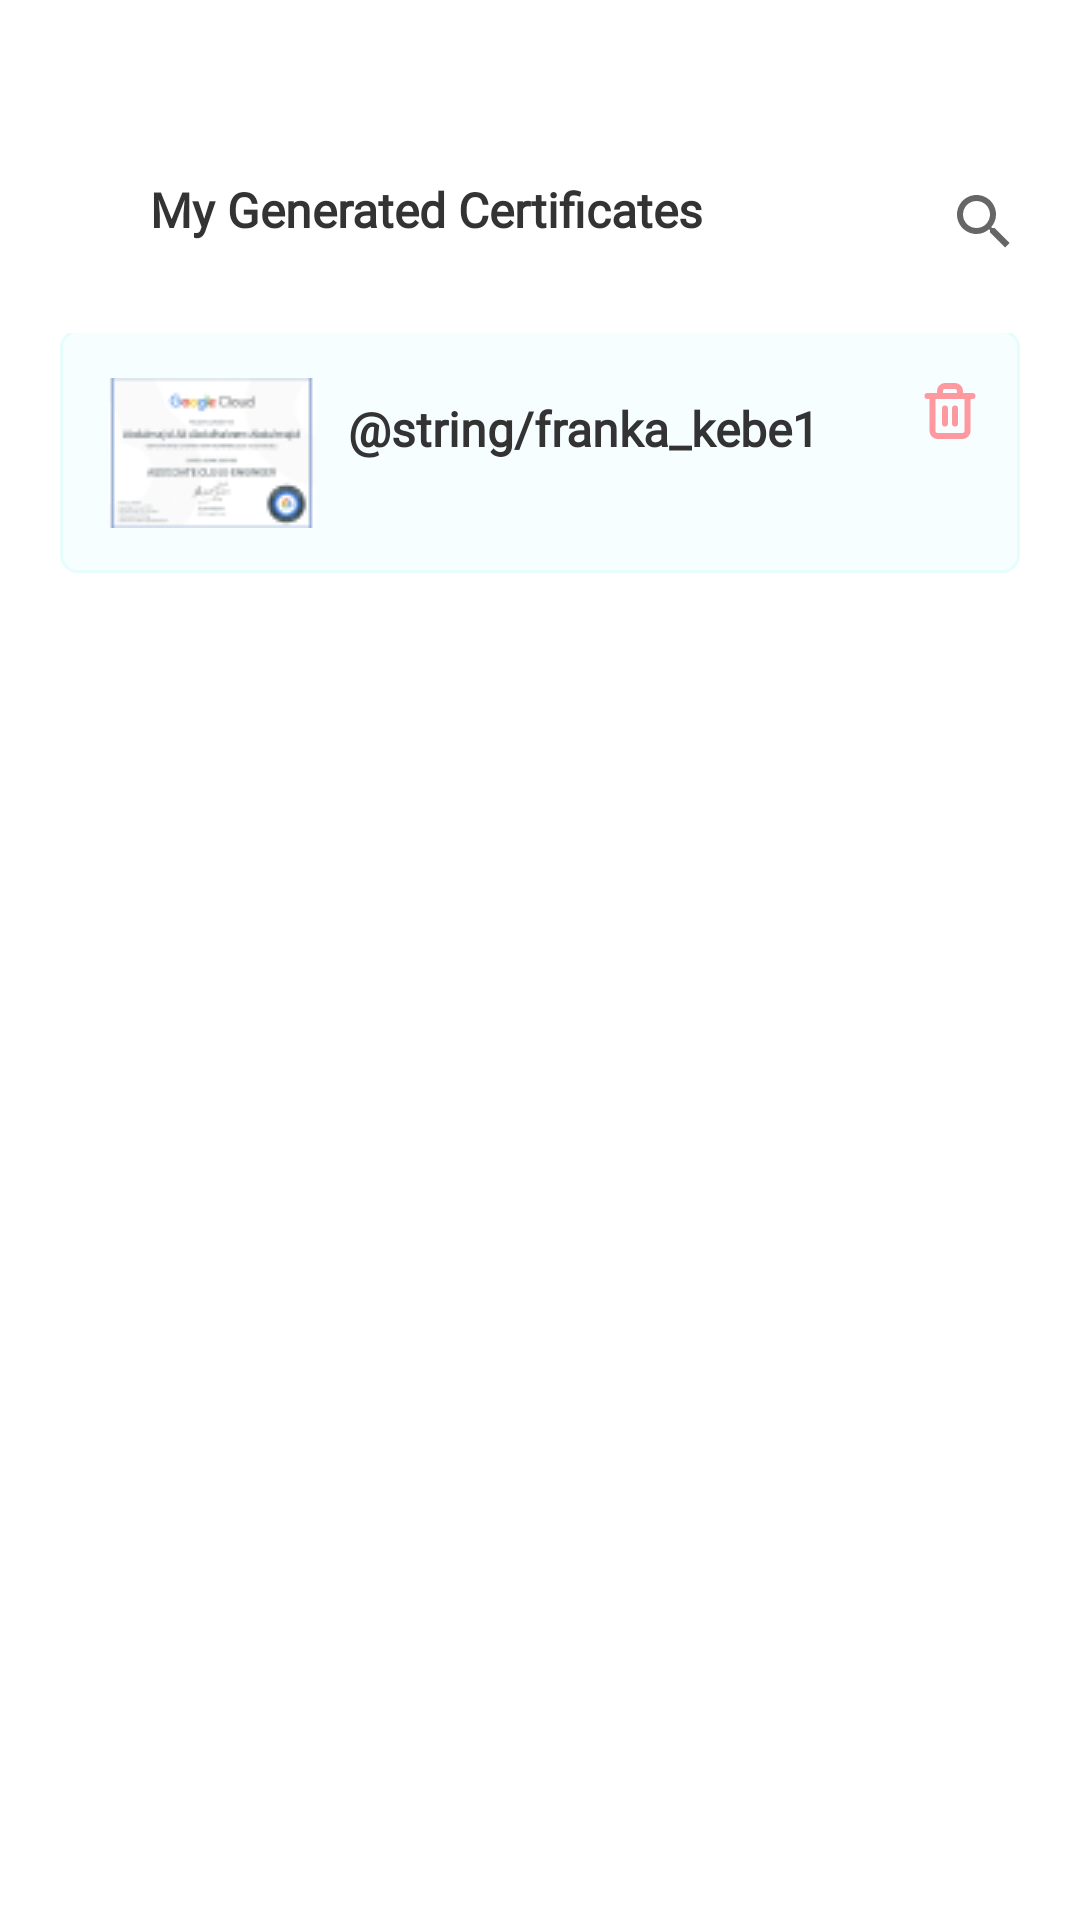

Icon bounding boxes for this 1080 x 1920 phone screenshot, format (x1, y1, x2, y2):
trash delete bin: (924, 383, 976, 439)
